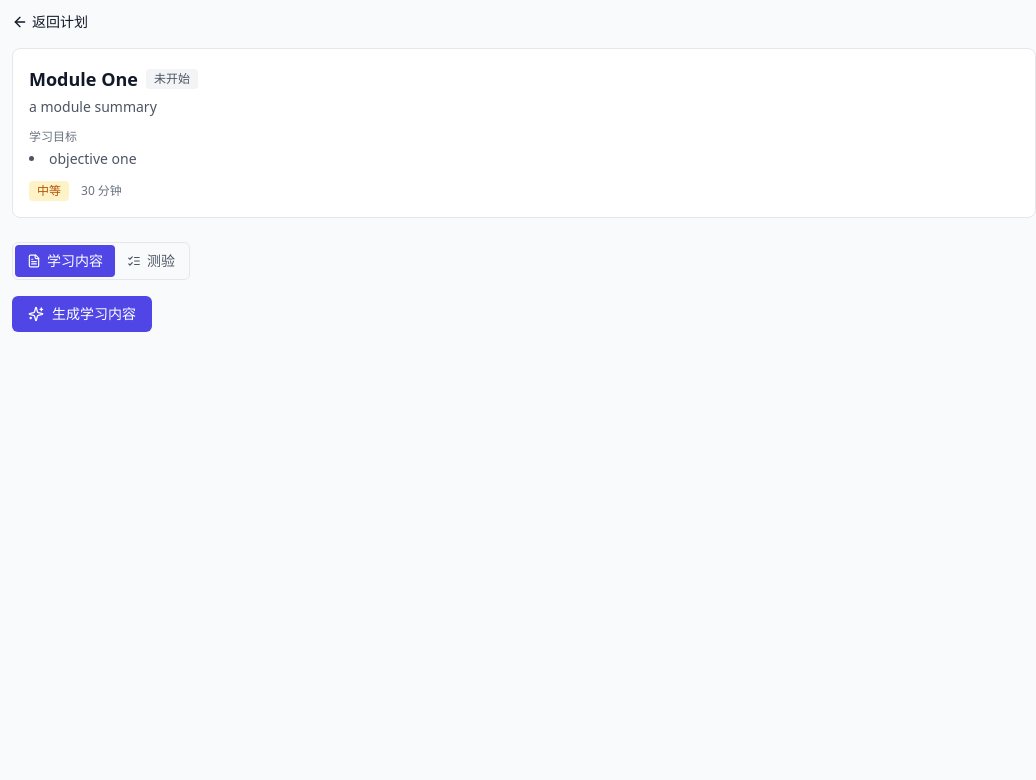
Test: ModuleDetail › shows a regenerate button when quiz already exists
What coordinates should you click on to do the following:
click the button "测验"
I would click on:
 (151, 261)
Its box is [115, 245, 187, 277].
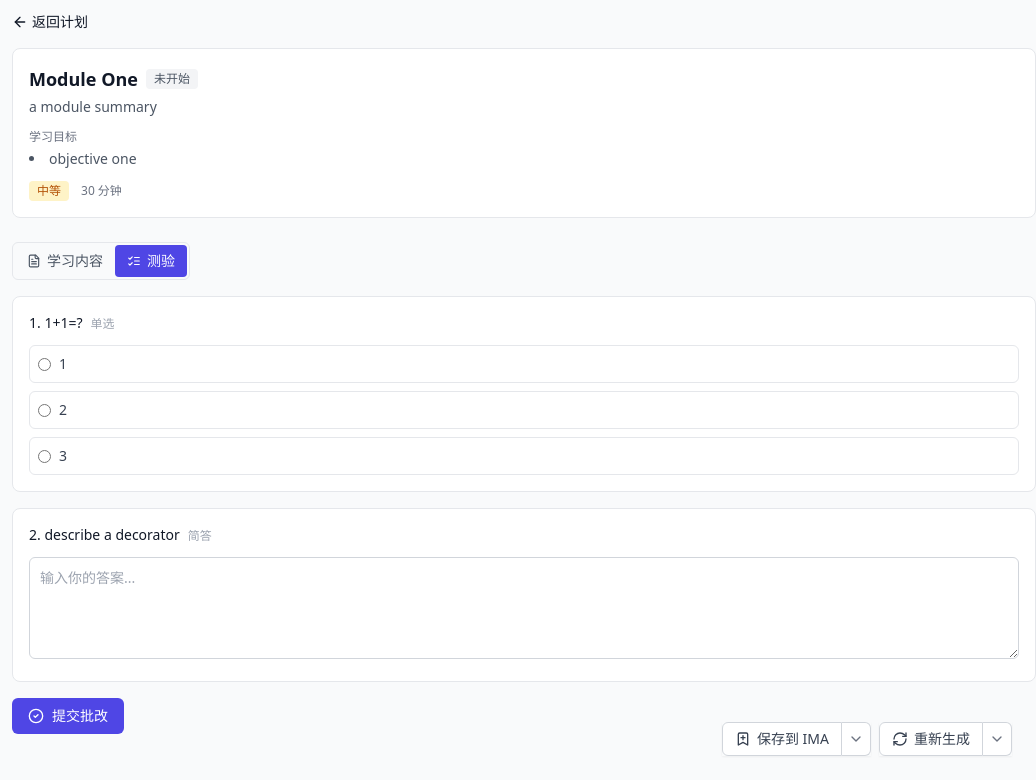
Result: the button "重新生成" is shown at [879, 722, 983, 756]
